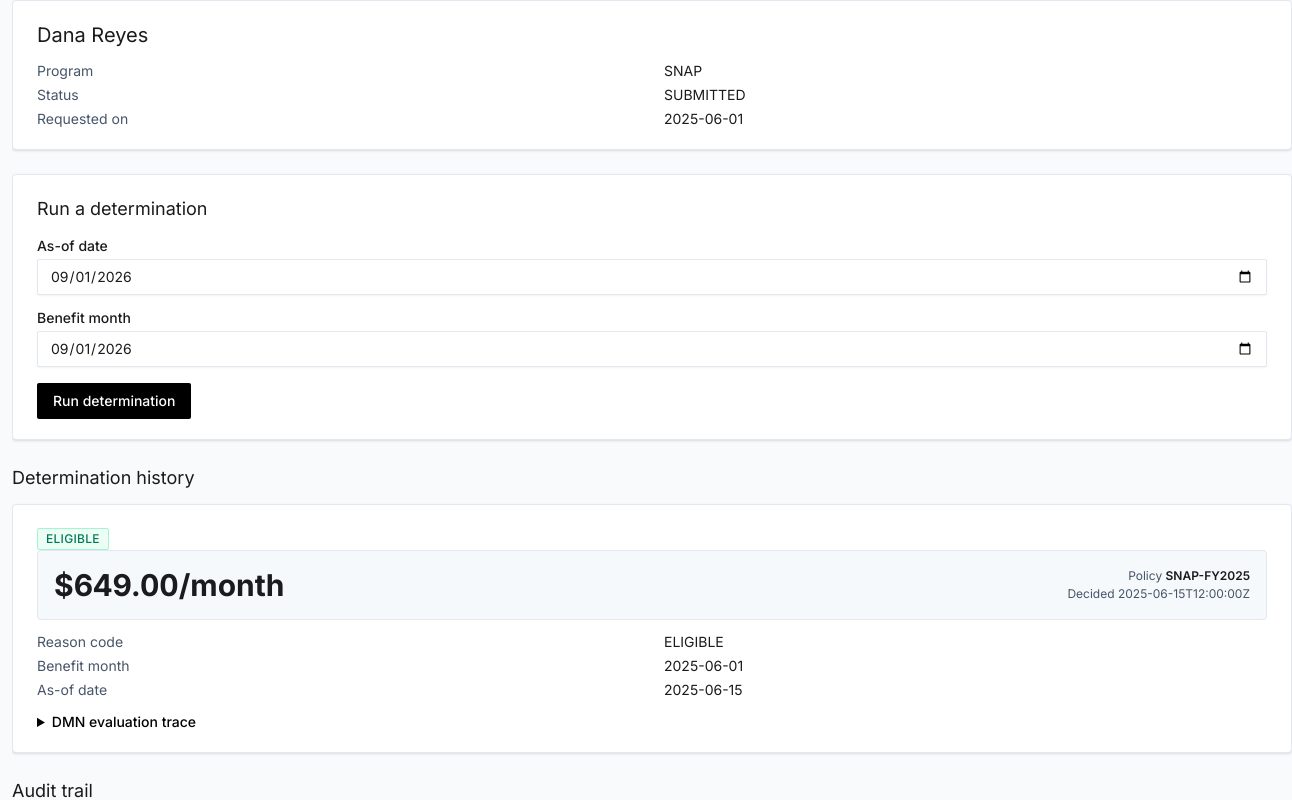
Test: the trace panel lists each DMN decision name and value in evaluation order once expanded
expect the text "Eligible" is shown: met, box [37,528,109,550]
What coordinates should you click on to do the following:
click the heading "DMN evaluation trace"
I would click on:
 (124, 722)
Its box is [52,713,196,730].
(page scrolled)
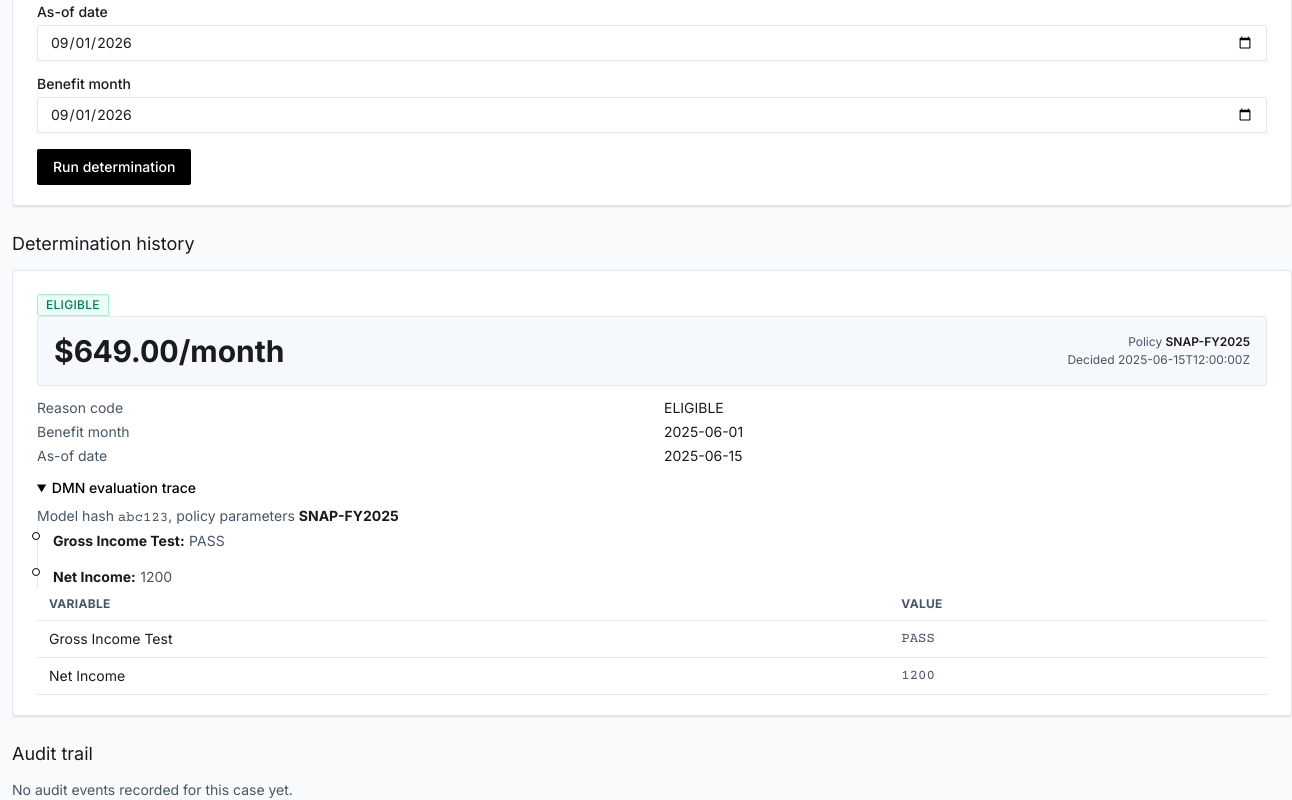
expect the list named "dmn decisions" shows "Gross Income Test": met, box [53,532,180,549]
expect the list named "dmn decisions" shows "PASS": met, box [189,532,225,549]
expect the list named "dmn decisions" shows "Net Income": met, box [53,568,131,585]
